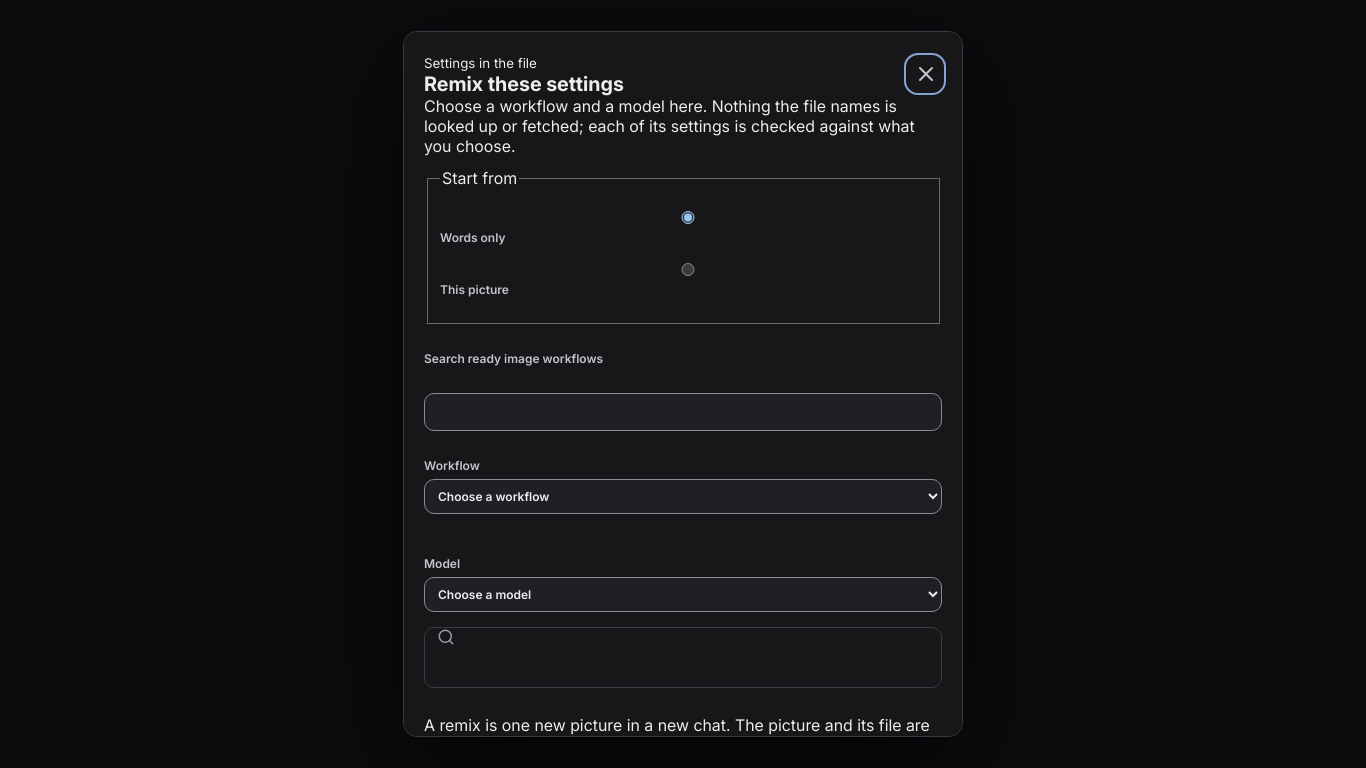
remix preview › shows nothing from an answer of another shape
Select "Cups - Cup workflow · v1" in the dropdown labelled "Workflow". click: (683, 497)
box: [424,479,942,514]
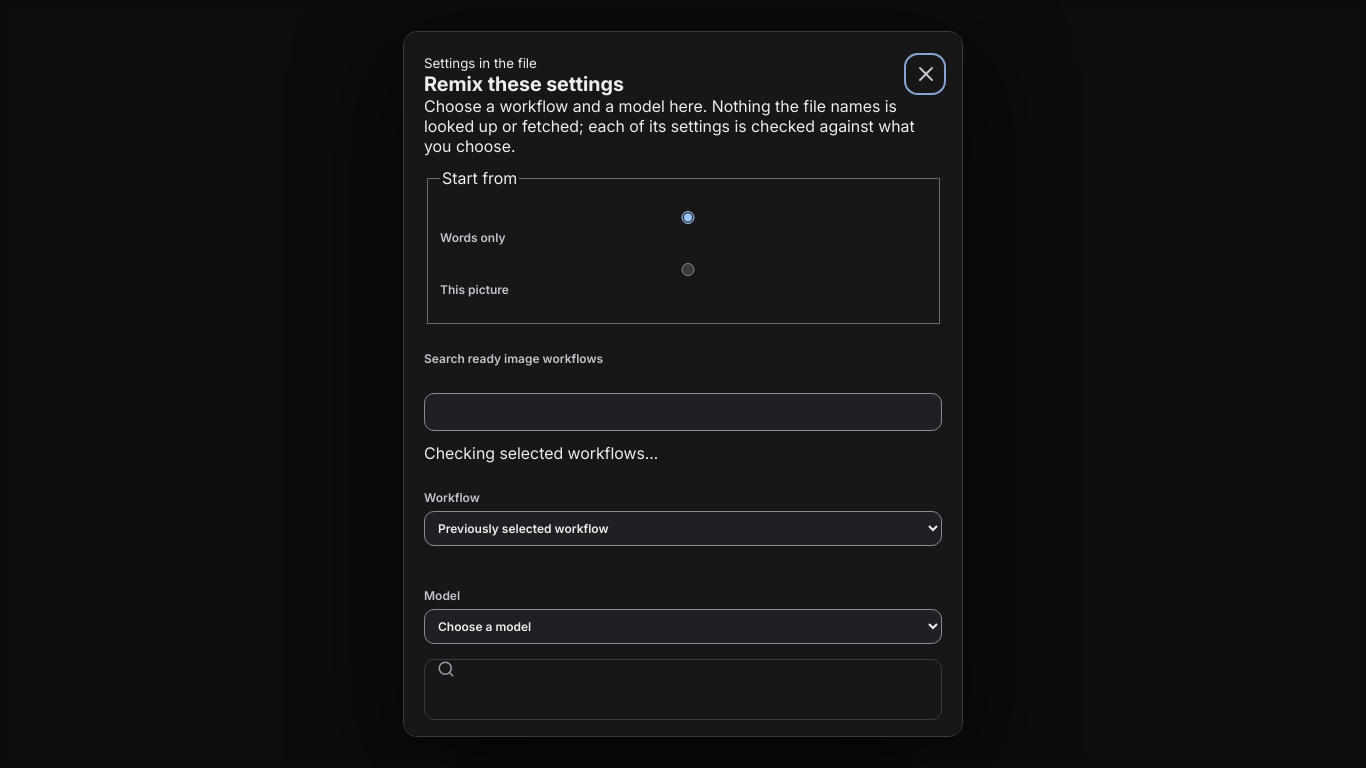
Select "Cup model" in the dropdown labelled "Model". click: (683, 627)
box: [424,609,942,644]
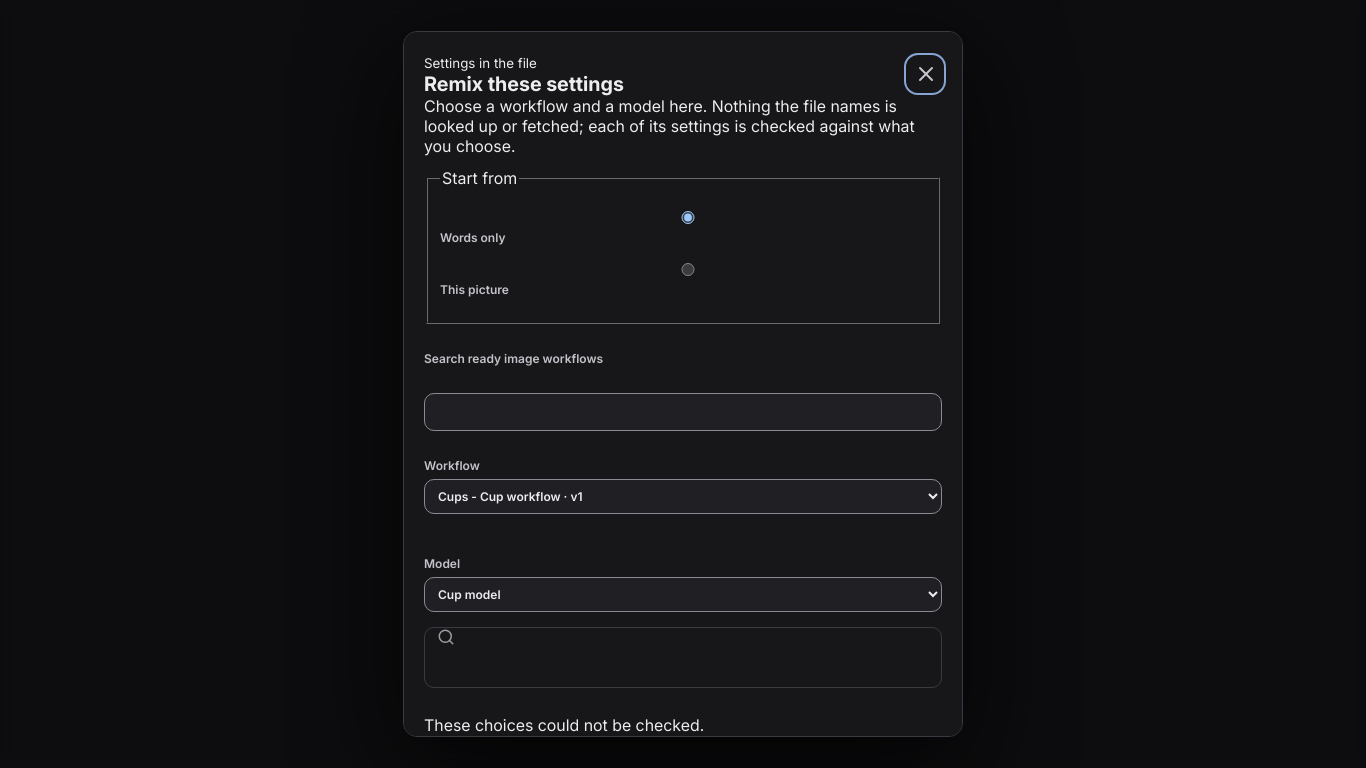
Now the message reads "These choices could not be checked.", box [424,715,704,735]
